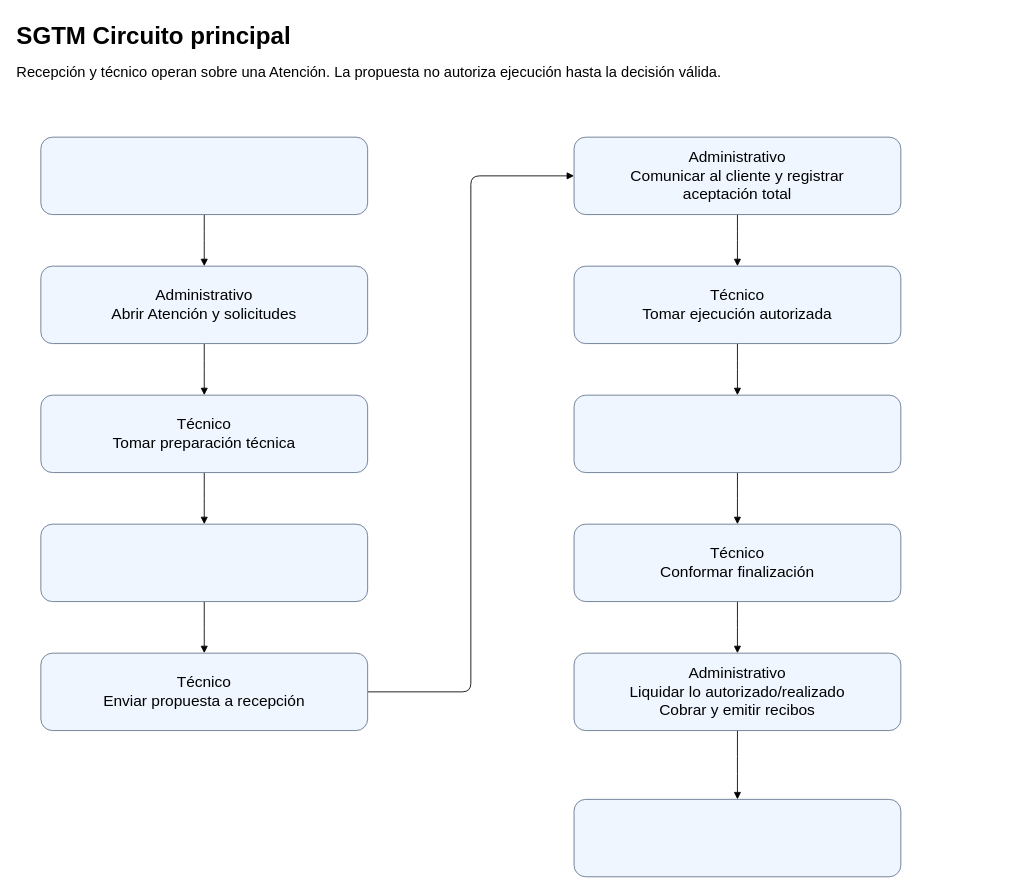
This 1035x892 diagram has some shape labels left out. Here are the shapes that lost their labels. From the top down, the box of each, then its label:
(40, 136, 368, 215): Administrativo Identificar cliente y vehículo
(573, 394, 901, 473): Técnico Guardar avance y completar todos los ítems autorizados
(40, 523, 368, 602): Técnico Informe si hay problema informado Propuesta de alcance y precios
(573, 799, 901, 877): Administrativo Registrar entrega con saldo cero y conformidad · Cerrar Atención
